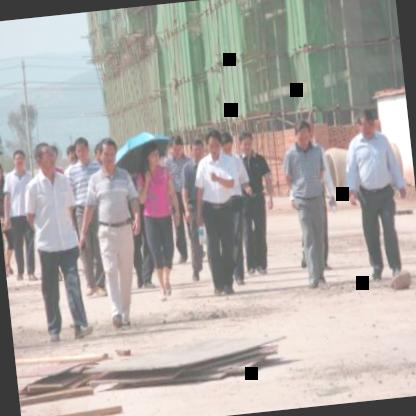head: (352, 100, 382, 140), (97, 133, 121, 173), (32, 140, 58, 176), (292, 115, 315, 151), (70, 131, 92, 166), (236, 126, 258, 160), (202, 128, 224, 161), (186, 134, 208, 165), (216, 126, 236, 155), (166, 130, 186, 158), (142, 140, 162, 166), (10, 146, 27, 171), (64, 142, 78, 167), (0, 159, 4, 183)
